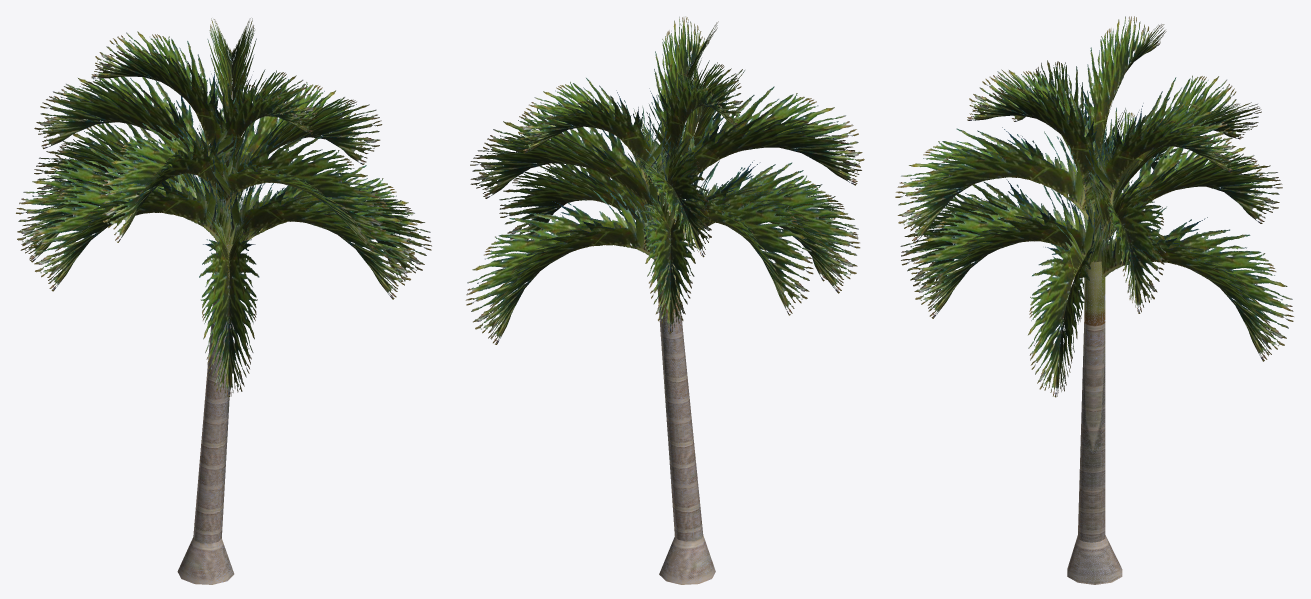
3 renders of one model, left to right at view 1: azimuth 30°, elevation 25°; view 2: azimuth 150°, elevation 25°; view 3: azimuth 270°, elevation 25°, orthographic.
Visible parts, largest first — view 1: halfleave (×26), P_trunck; view 2: halfleave (×25), P_trunck; view 3: halfleave (×23), P_trunck (×2).
Boxes of the visible parts, x1=… form: halfleave (×26): x1=16, y1=18, x2=431, y2=396; P_trunck: x1=177, y1=310, x2=234, y2=584; halfleave (×25): x1=465, y1=16, x2=864, y2=344; P_trunck: x1=659, y1=308, x2=715, y2=584; halfleave (×23): x1=895, y1=16, x2=1293, y2=397; P_trunck (×2): x1=1067, y1=261, x2=1122, y2=584.
Bounding box in the file's own units: 86.33 × 82.29 × 119.
Materials: 4 (3 with a texture image).
